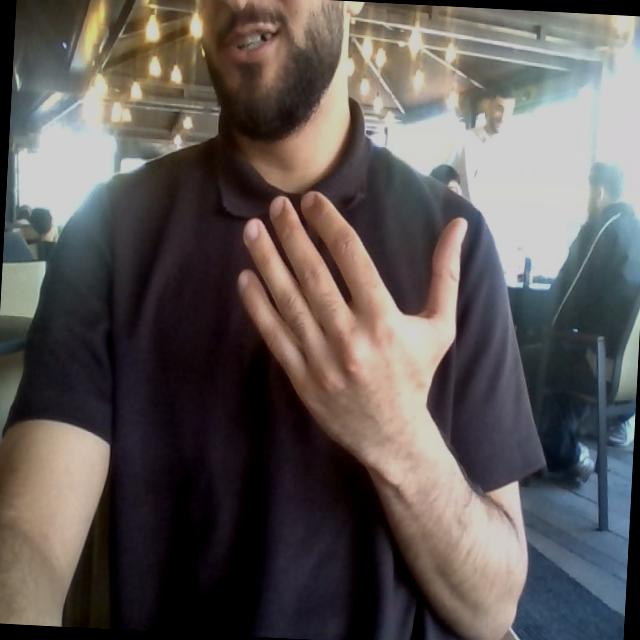Hand: (239, 193, 466, 464)
